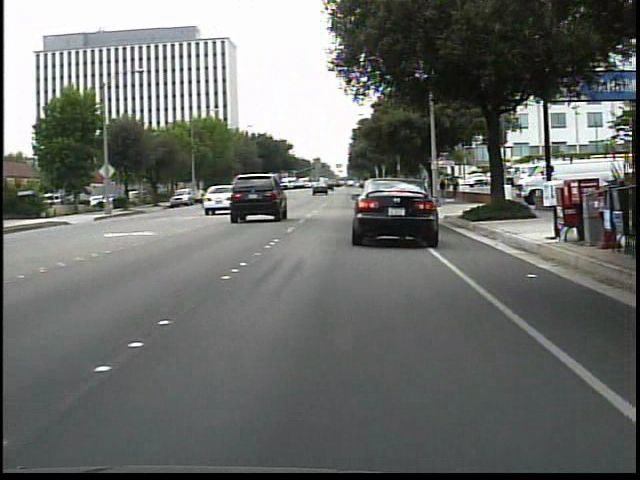person: (449, 176, 460, 203), (437, 177, 449, 201)
